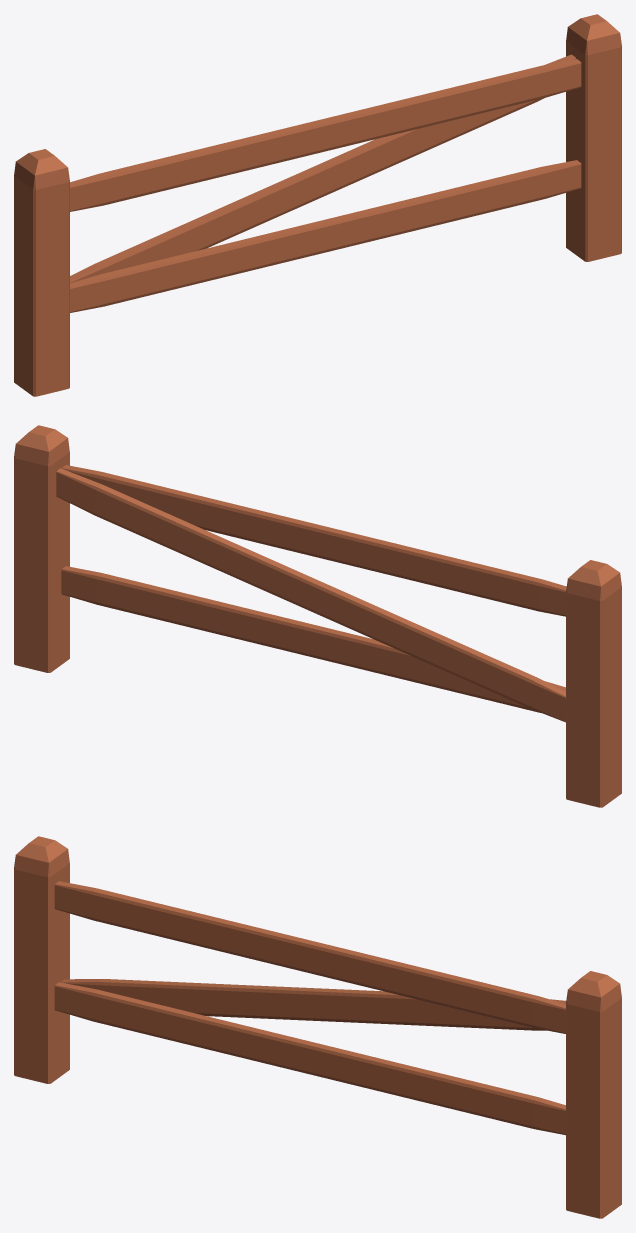
File: houten hek.fbx
The picture shows the model from 3 angles, top to bottom: view 1: azimuth 30°, elevation 25°; view 2: azimuth 150°, elevation 25°; view 3: azimuth 330°, elevation 25°; orthographic projection.
Parts seen in each view (by area): view 1: Cube.005; view 2: Cube.005; view 3: Cube.005.
Part boxes in pixels (box(x1,y1,x2,y2)): Cube.005: box(14, 14, 621, 396); Cube.005: box(14, 425, 621, 807); Cube.005: box(14, 836, 621, 1218).
Bounding box in the file's own units: 3.2 × 1.2 × 0.2.
